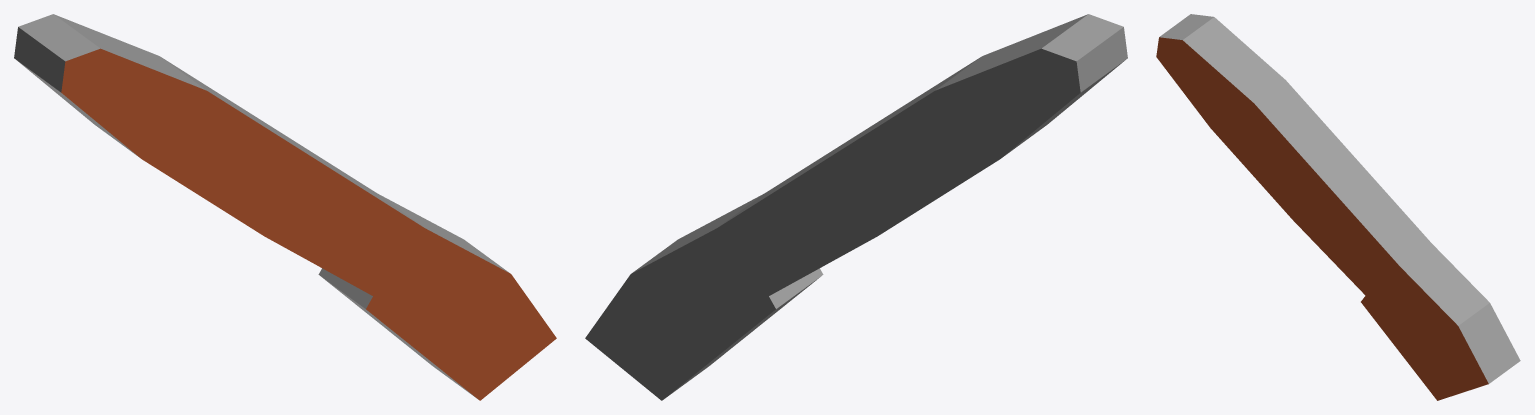
The model's file is construction_6999_assumed_A_Casa_h6m.obj.
The picture shows the model from 3 angles, left to right: view 1: azimuth 30°, elevation 25°; view 2: azimuth 150°, elevation 25°; view 3: azimuth 330°, elevation 25°; orthographic projection. The views are drawn at different scales.
Parts seen in each view (by area): view 1: construction_6999_assumed_A_Casa; view 2: construction_6999_assumed_A_Casa; view 3: construction_6999_assumed_A_Casa.
Part boxes in pixels (box(x1,y1,x2,y2)): construction_6999_assumed_A_Casa: box(14, 14, 556, 400); construction_6999_assumed_A_Casa: box(585, 14, 1127, 400); construction_6999_assumed_A_Casa: box(1156, 14, 1520, 400).
Bounding box in the file's own units: 36.3 × 31.14 × 6.
